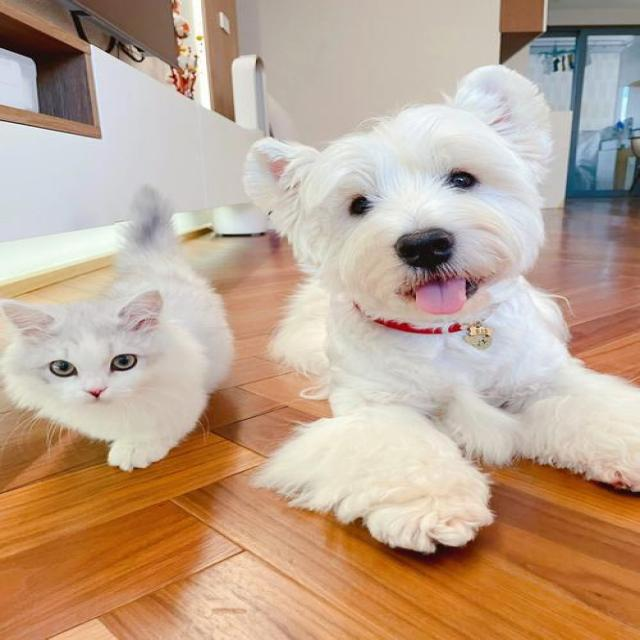cat: (11, 205, 260, 484)
dog: (211, 58, 623, 384)
